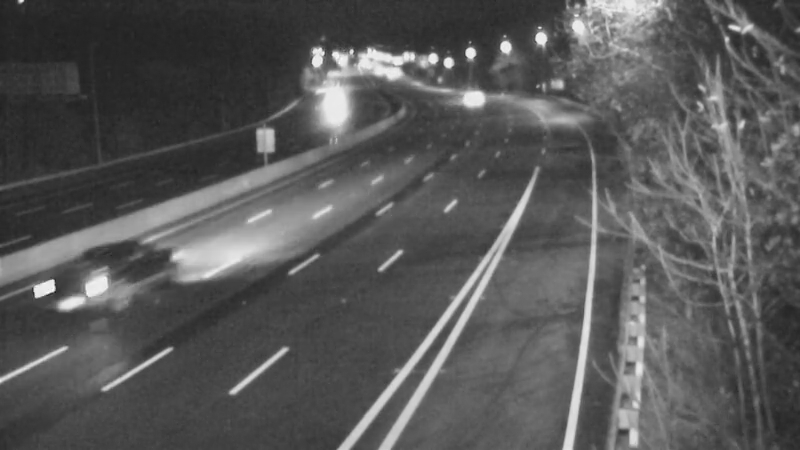vehicle: (48, 242, 128, 322), (447, 72, 497, 122), (301, 81, 351, 131)
